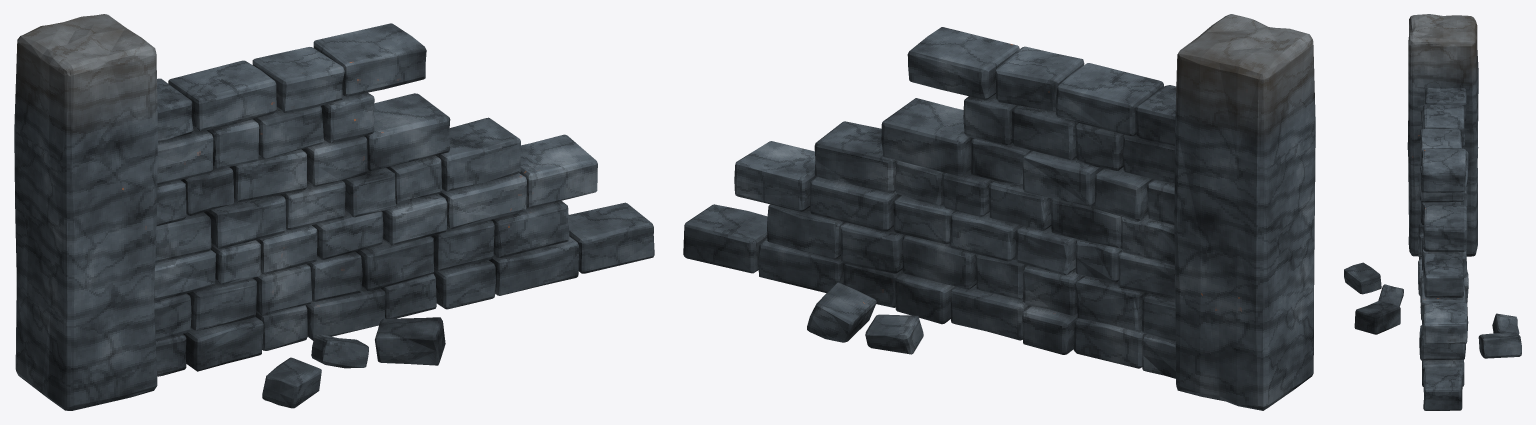
The model's file is snow_ruin_b.glb.
3 views of the same model, side by side, from view 1: azimuth 30°, elevation 25°; view 2: azimuth 150°, elevation 25°; view 3: azimuth 270°, elevation 25° (orthographic). The views are drawn at different scales.
Visible parts, largest first — view 1: snow_ruin_b; view 2: snow_ruin_b; view 3: snow_ruin_b.
Boxes of the visible parts, x1,y1,x2,y2 form: snow_ruin_b: (14, 14, 654, 410); snow_ruin_b: (683, 14, 1315, 410); snow_ruin_b: (1344, 14, 1521, 410).
Bounding box in the file's own units: 4.81 × 2.65 × 1.96.
1 material, 1 textured.
